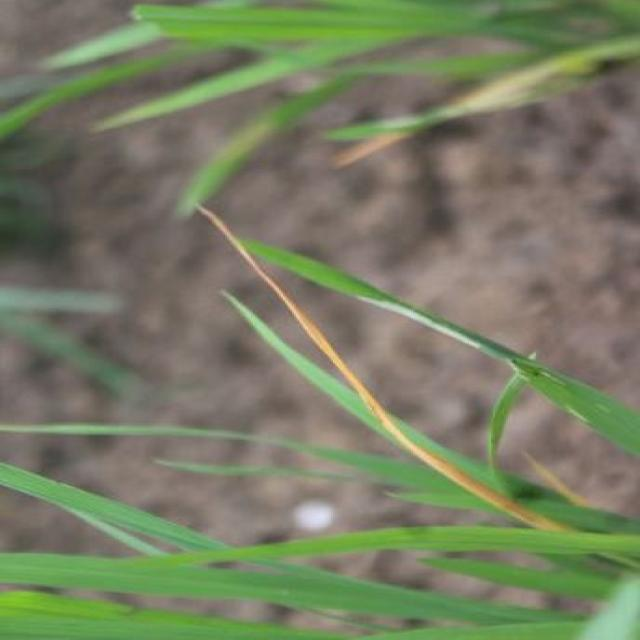Tungro: (182, 194, 558, 531)
